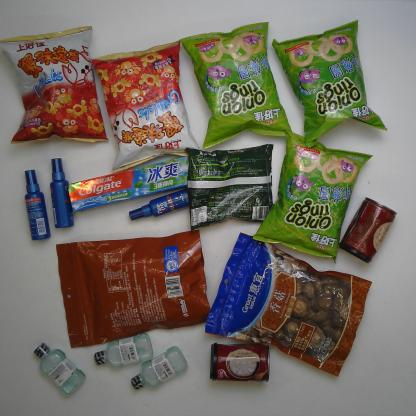Canned Food: (336, 198, 398, 266), (206, 341, 272, 386)
Dried Food: (205, 231, 373, 378), (52, 229, 214, 349)
Instant Noodles: (184, 142, 276, 231)
Personal Hygiene: (66, 152, 192, 214), (31, 342, 87, 398), (131, 345, 190, 393), (92, 328, 155, 371), (128, 188, 193, 226), (22, 167, 53, 242), (49, 156, 75, 229)
Puffed Food: (252, 130, 372, 264), (180, 21, 299, 151), (88, 40, 204, 172), (272, 19, 388, 148), (0, 24, 110, 147)
